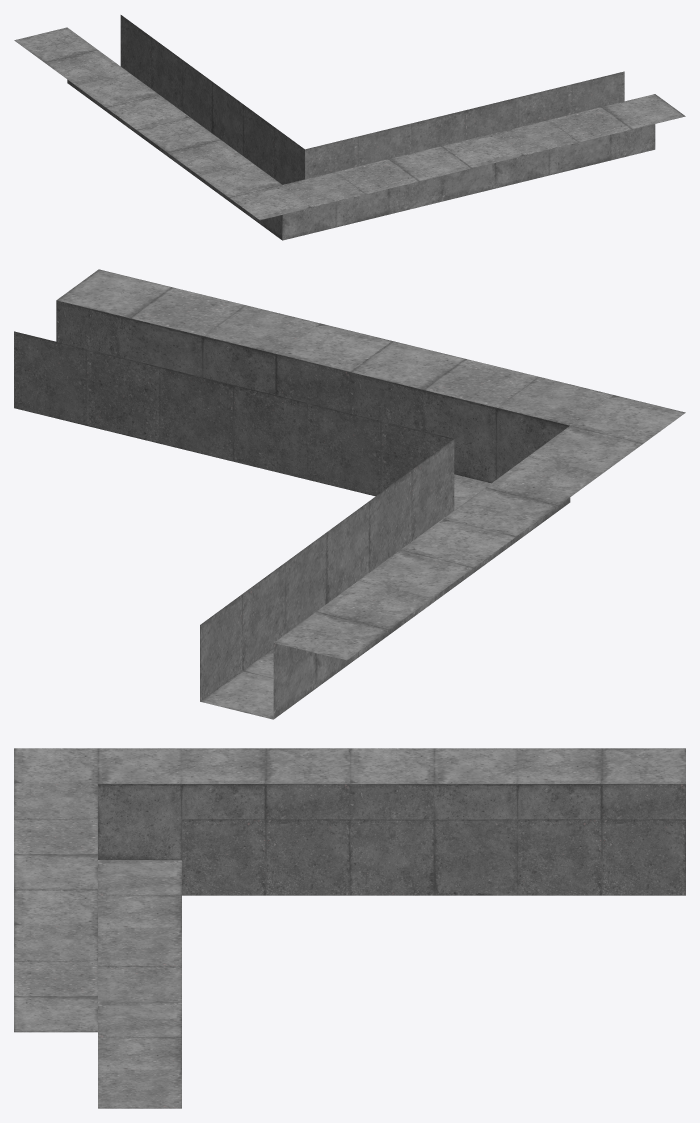
File: SM_Ceiling_19.fbx
3 views of the same model, one above another, from view 1: azimuth 30°, elevation 25°; view 2: azimuth 150°, elevation 25°; view 3: azimuth 270°, elevation 25° (orthographic). The views are drawn at different scales.
Parts seen in each view (by area): view 1: SM_Ceiling_19; view 2: SM_Ceiling_19; view 3: SM_Ceiling_19.
Boxes of the visible parts, box(x1,y1,x2,y2) form: SM_Ceiling_19: box(14, 15, 685, 240); SM_Ceiling_19: box(14, 269, 685, 719); SM_Ceiling_19: box(14, 748, 685, 1108).
Size of the model in its own units: 800 by 100 by 800.
